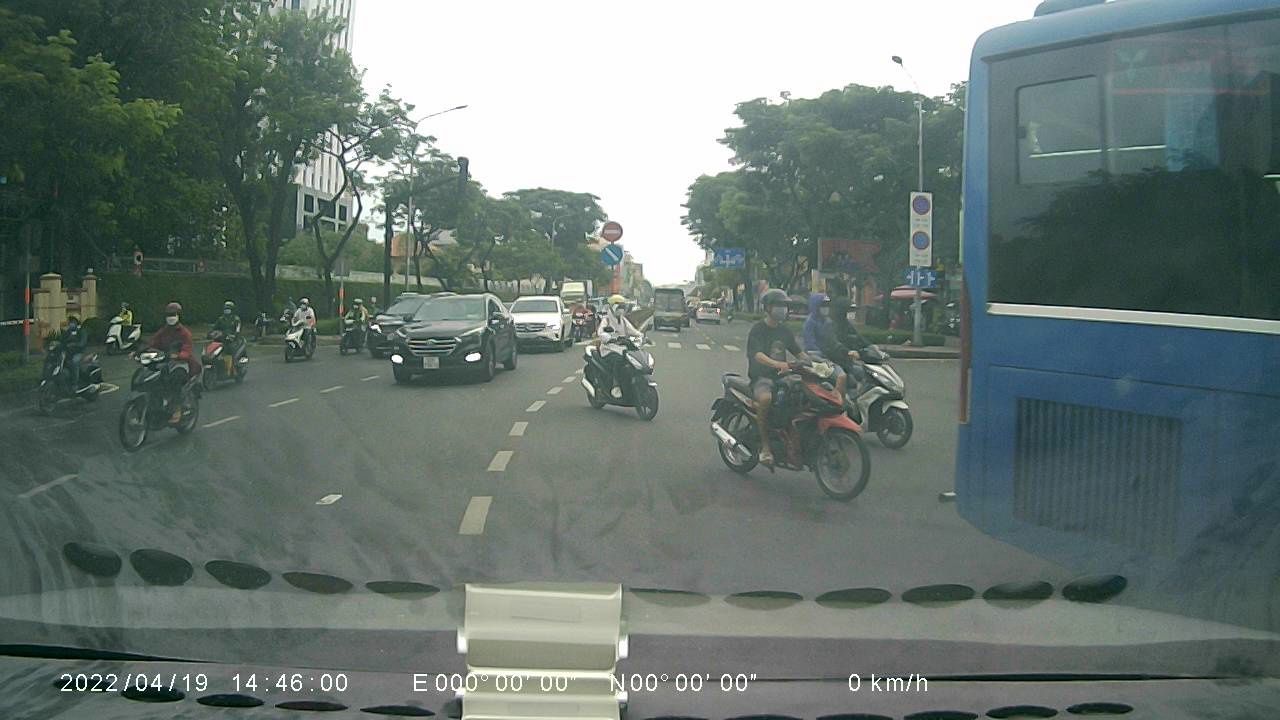Cam di nguoc chieu: (599, 218, 622, 240)
Cam do xe: (911, 228, 930, 250)
Huong di phai re phai: (601, 243, 624, 264)
